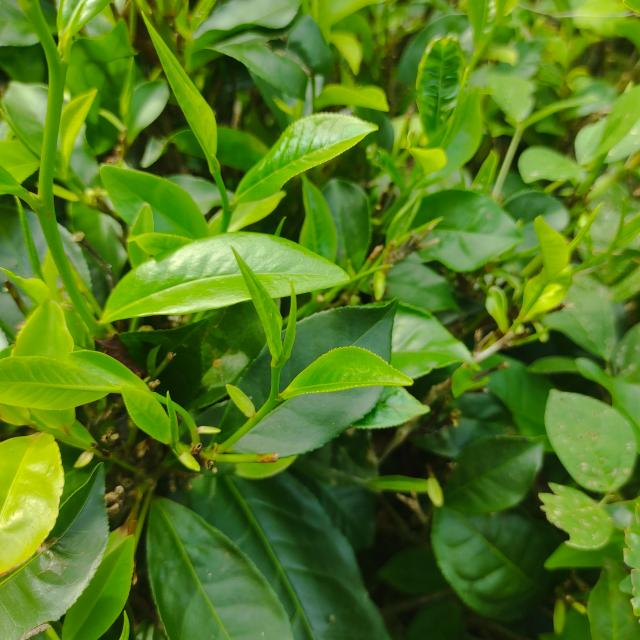unopened_leaf: (273, 274, 306, 368), (565, 197, 606, 261), (165, 386, 183, 462)
